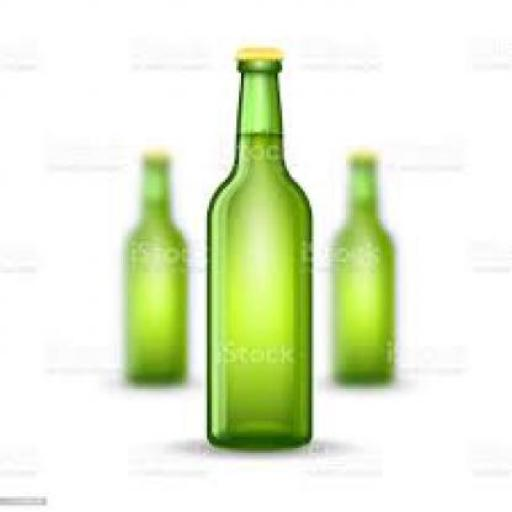glass: (205, 47, 309, 444), (330, 152, 391, 382), (125, 155, 184, 382)
metal: (232, 43, 280, 57)
